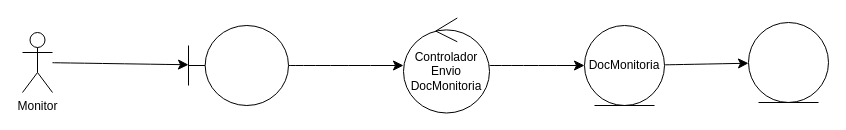
Some shapes in this 846 by 130 pixel diagram are drawn without their labels. The shapes that lost their labels are listed below. From the top down, each one's box as (x1, y1, x2, y2) in pixels, then its label:
(188, 24, 288, 106): Tela Envio DocMonitoria
(748, 22, 828, 102): Atividade Monitoria
